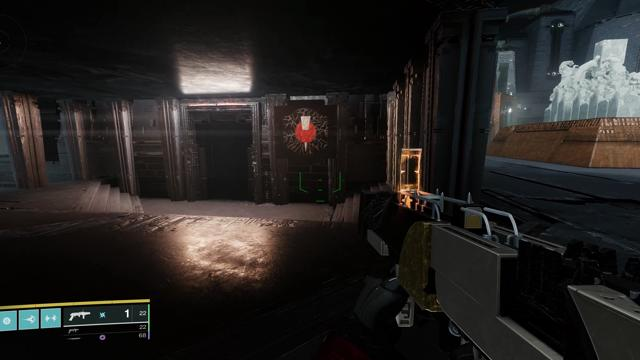kill: (282, 108, 328, 155)
